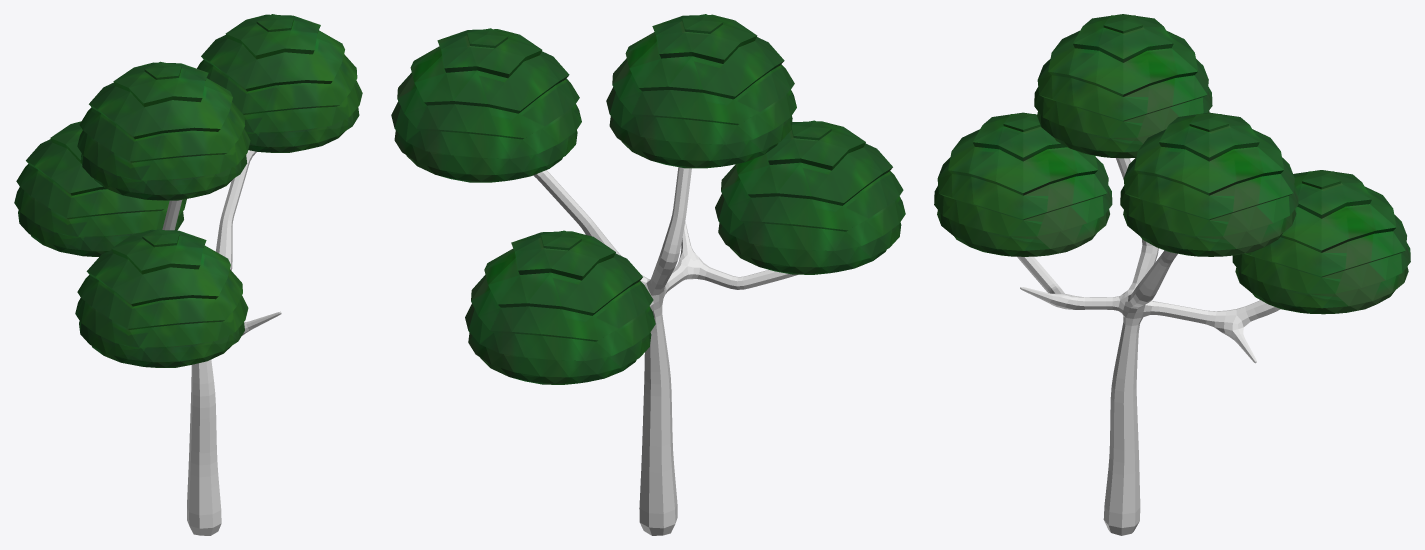
Rendered from Tree2.fbx.
3 views of the same model, side by side, from view 1: azimuth 30°, elevation 25°; view 2: azimuth 150°, elevation 25°; view 3: azimuth 270°, elevation 25° (orthographic). The views are drawn at different scales.
Parts seen in each view (by area): view 1: Leaves, Leaves.001, Leaves.003, Leaves.002, Cube; view 2: Leaves.001, Leaves.003, Leaves.002, Leaves, Cube; view 3: Leaves.003, Leaves, Leaves.001, Leaves.002, Cube.
Boxes of the visible parts, x1,y1,x2,y2 form: Leaves: [75, 229, 248, 367]; Leaves.001: [77, 61, 250, 200]; Leaves.003: [197, 14, 362, 152]; Leaves.002: [14, 121, 186, 256]; Cube: [162, 150, 281, 535]; Leaves.001: [606, 14, 796, 168]; Leaves.003: [391, 28, 581, 182]; Leaves.002: [465, 230, 655, 384]; Leaves: [715, 120, 905, 274]; Cube: [533, 167, 797, 535]; Leaves.003: [1120, 112, 1298, 256]; Leaves: [934, 112, 1112, 256]; Leaves.001: [1034, 14, 1212, 158]; Leaves.002: [1232, 170, 1410, 314]; Cube: [1017, 158, 1280, 535].
Bounding box in the file's own units: 839 × 1085 × 949.
